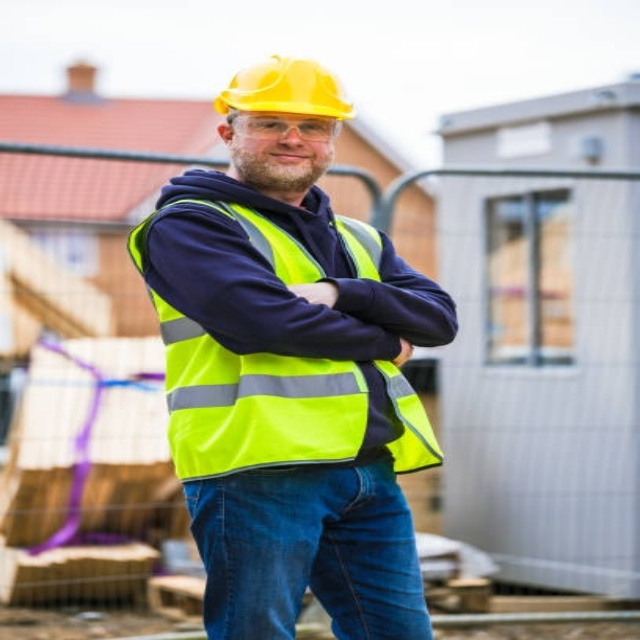Gafas: (232, 115, 348, 141)
Sin_mascara: (257, 145, 320, 182)
